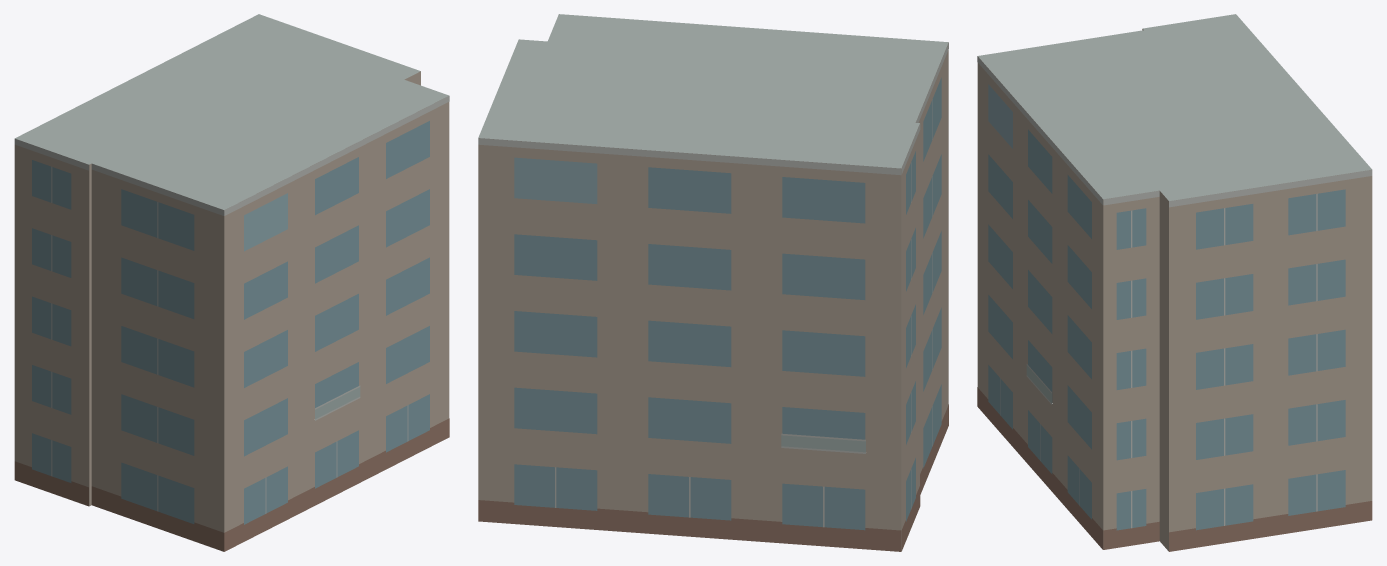
File: survey-upis-32843126.glb
3 views of the same model, side by side, from view 1: azimuth 30°, elevation 25°; view 2: azimuth 150°, elevation 25°; view 3: azimuth 270°, elevation 25° (orthographic). The views are drawn at different scales.
Parts seen in each view (by area): view 1: survey-upis-32843126.tmp; view 2: survey-upis-32843126.tmp; view 3: survey-upis-32843126.tmp.
Part boxes in pixels (x1,y1,x2,y2): survey-upis-32843126.tmp: (14, 14, 449, 551); survey-upis-32843126.tmp: (478, 14, 948, 551); survey-upis-32843126.tmp: (977, 14, 1372, 551).
Bounding box in the file's own units: 15.87 × 13.85 × 14.14.
